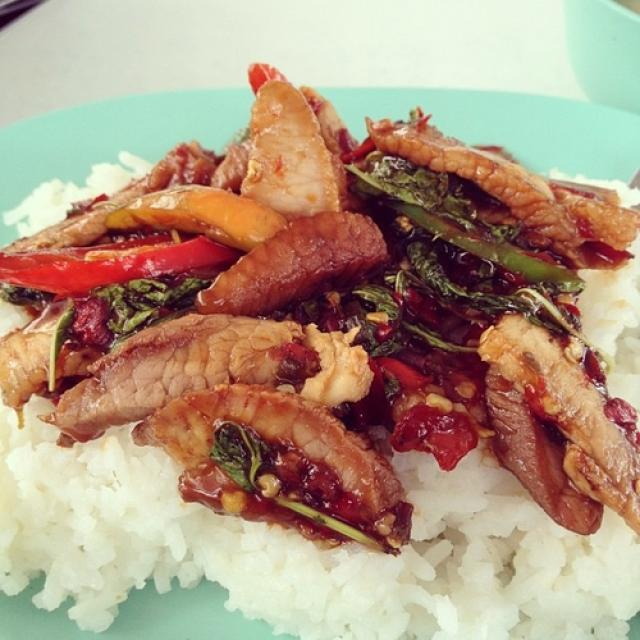猪肉菜式: (27, 32, 616, 616)
